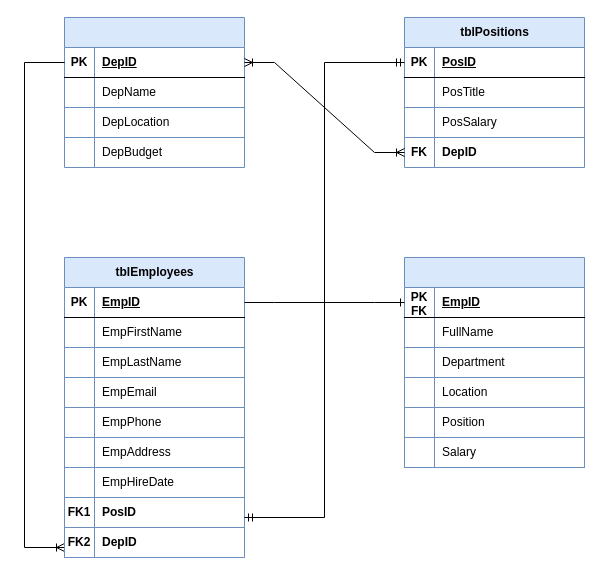
Some shapes in this 602 by 575 pixel diagram are drawn without their labels. The shapes that lost their labels are listed below. From the top down, each one's box as (x1, y1, x2, y2) in pixels, then its label:
(64, 16, 244, 168): tblDepartments
(404, 256, 584, 468): tblEmployeeDetails
